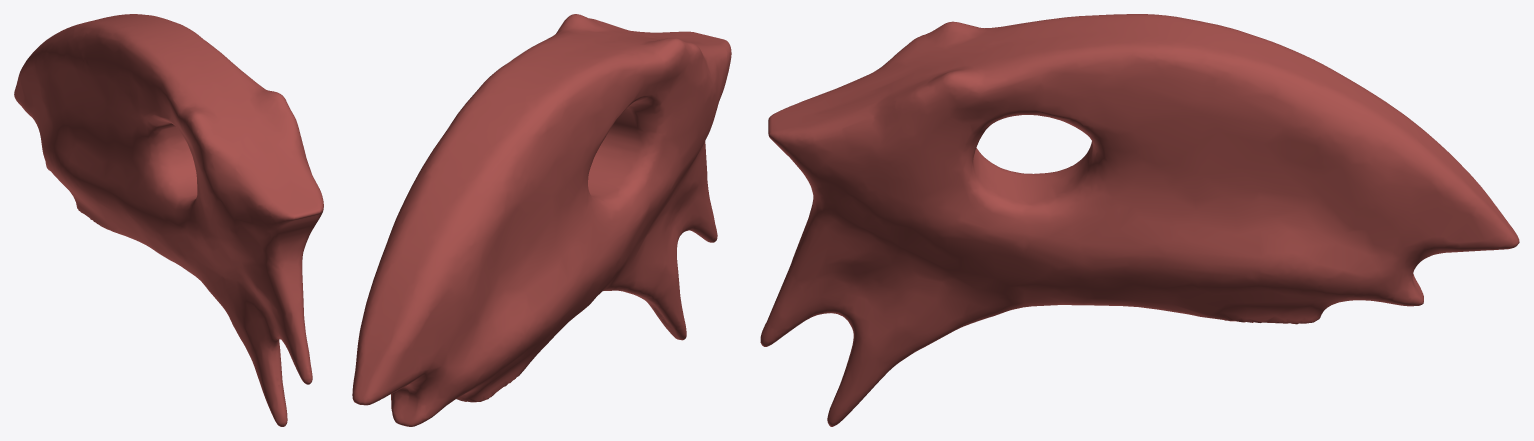
The model's file is FMA78454.glb.
The picture shows the model from 3 angles, left to right: view 1: azimuth 30°, elevation 25°; view 2: azimuth 150°, elevation 25°; view 3: azimuth 270°, elevation 25°; orthographic projection. The views are drawn at different scales.
Visible parts, largest first — view 1: FMA78454; view 2: FMA78454; view 3: FMA78454.
Boxes of the visible parts, left/top/right/bottom form: FMA78454: left=14, top=14, right=323, bottom=426; FMA78454: left=352, top=14, right=731, bottom=426; FMA78454: left=760, top=14, right=1519, bottom=426.
Size of the model in its own units: 0.00735 by 0.0218 by 0.0379.
